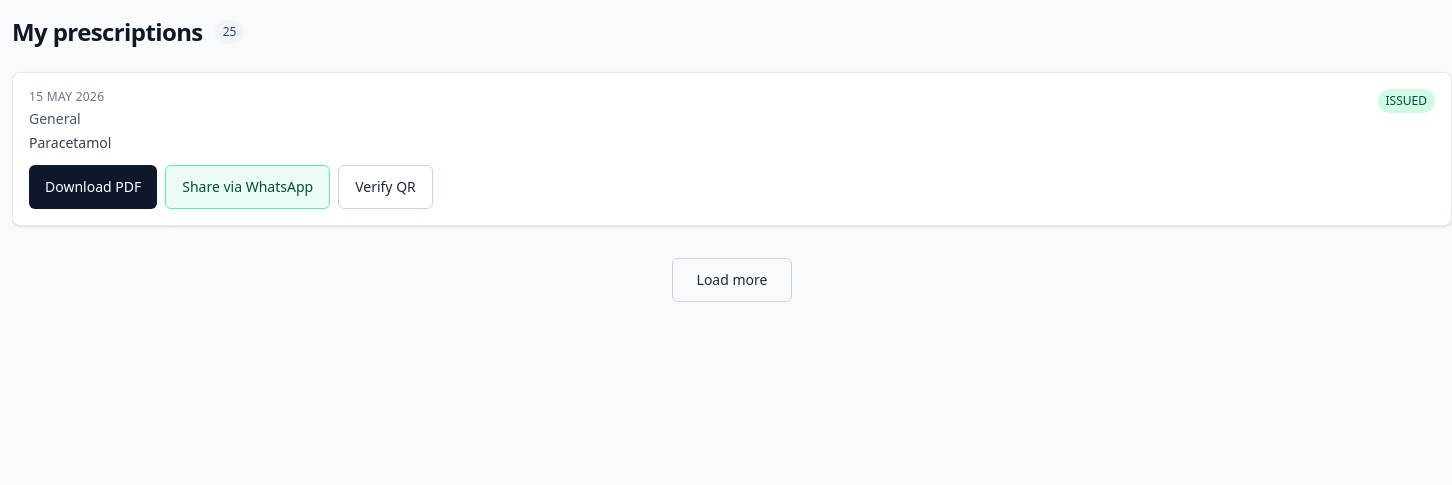
Test: Patient prescriptions page — gap #5 piece 3c › shows the Load more button when meta.total exceeds the loaded rows
The width and height of the screenshot is (1452, 485).
What coordinates should you click on to do the following:
click the button with test id "patient-prescriptions-load-more"
I would click on:
 (732, 280)
Its box is x1=672 y1=258 x2=792 y2=302.
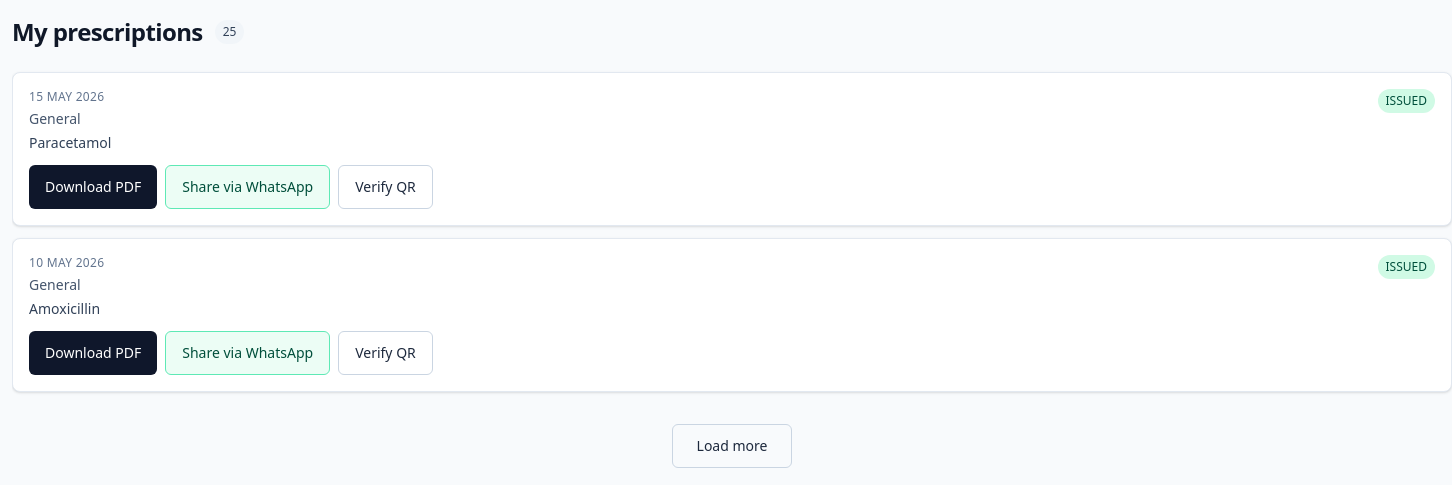
Now the number of list items with test id "patient-prescriptions-row" is 2, box x1=12 y1=72 x2=1451 y2=226; x1=12 y1=238 x2=1451 y2=392
